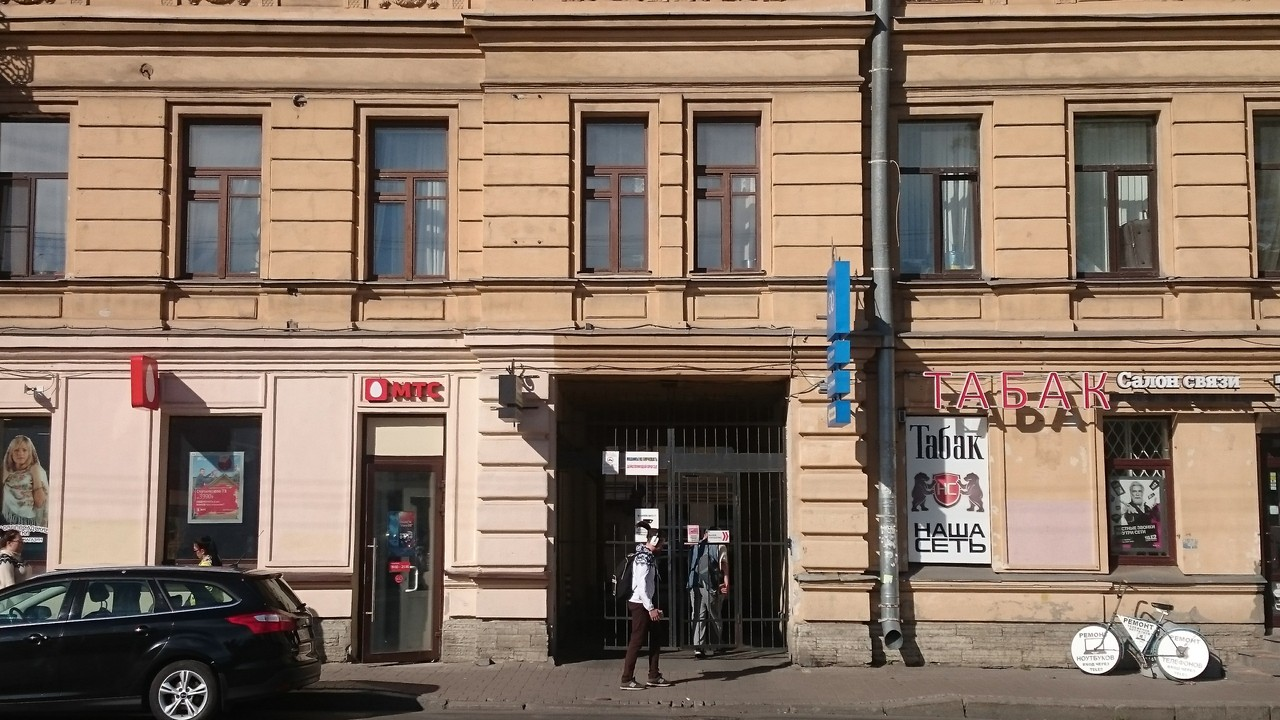arch: (553, 375, 791, 661)
cantilever: (814, 262, 851, 429), (497, 368, 538, 428), (132, 356, 166, 412)
door: (357, 459, 447, 666)
signboard: (920, 371, 1111, 412), (1116, 372, 1239, 389), (364, 377, 443, 402)
window: (900, 412, 995, 563), (1072, 121, 1162, 277), (169, 416, 257, 564), (181, 120, 264, 276), (898, 124, 982, 276), (369, 124, 447, 282), (692, 117, 763, 272), (1, 117, 71, 272), (583, 117, 647, 274), (1111, 418, 1170, 565)
